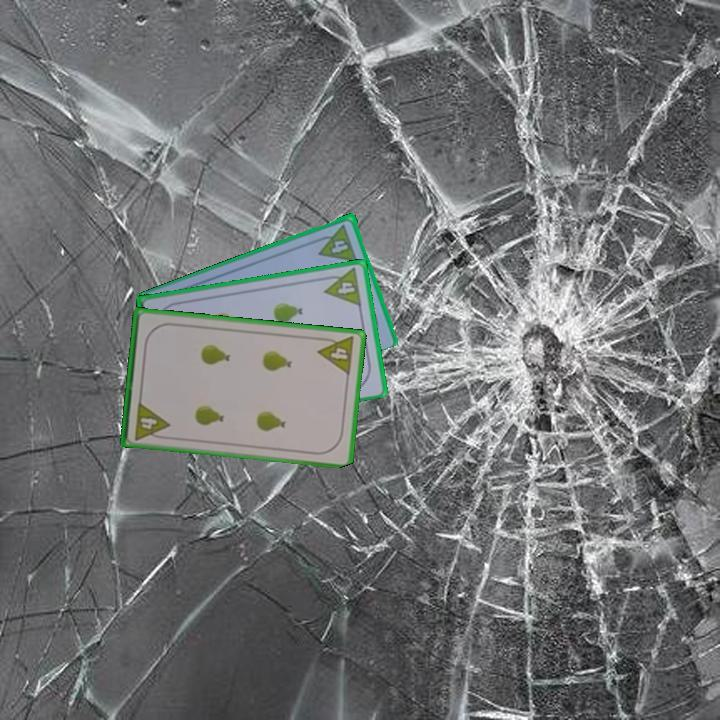4p: (311, 220, 360, 264), (319, 264, 364, 309), (315, 333, 357, 378), (131, 398, 172, 443)
